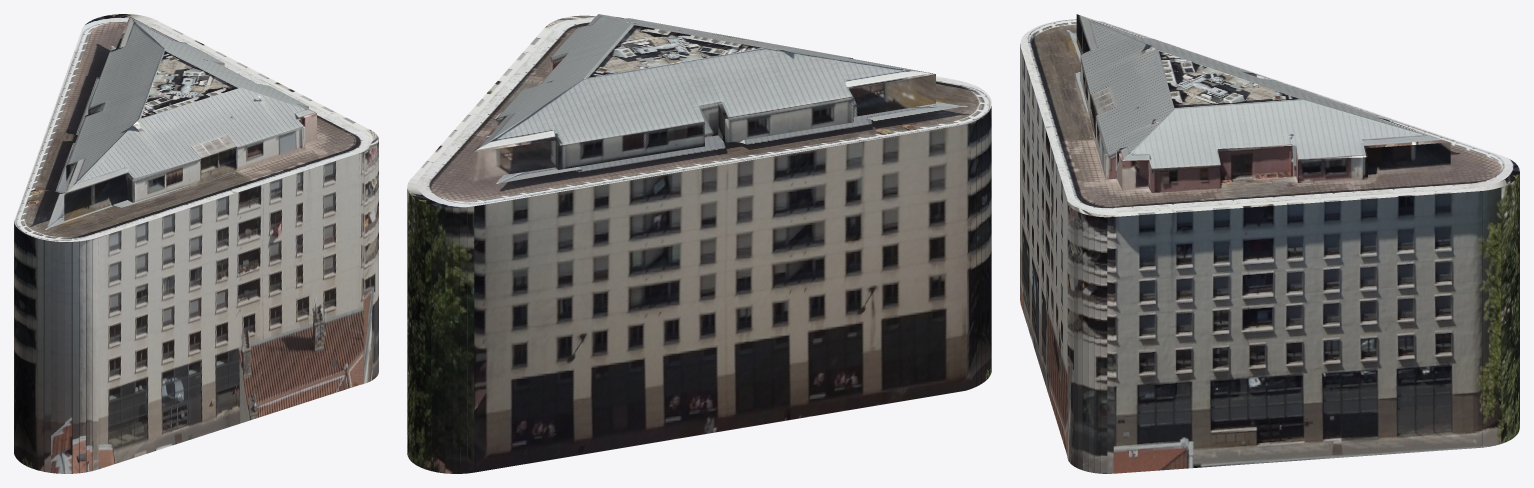
3 renders of one model, left to right at view 1: azimuth 30°, elevation 25°; view 2: azimuth 150°, elevation 25°; view 3: azimuth 270°, elevation 25°, orthographic. The views are drawn at different scales.
Parts seen in each view (by area): view 1: Z_UP; view 2: Z_UP; view 3: Z_UP.
Boxes of the visible parts, x1,y1,x2,y2 form: Z_UP: (14,14,378,473); Z_UP: (407,14,991,473); Z_UP: (1020,14,1519,473).
Bounding box in the file's own units: 34.59 × 25.26 × 36.94.
2 materials, 1 textured.
